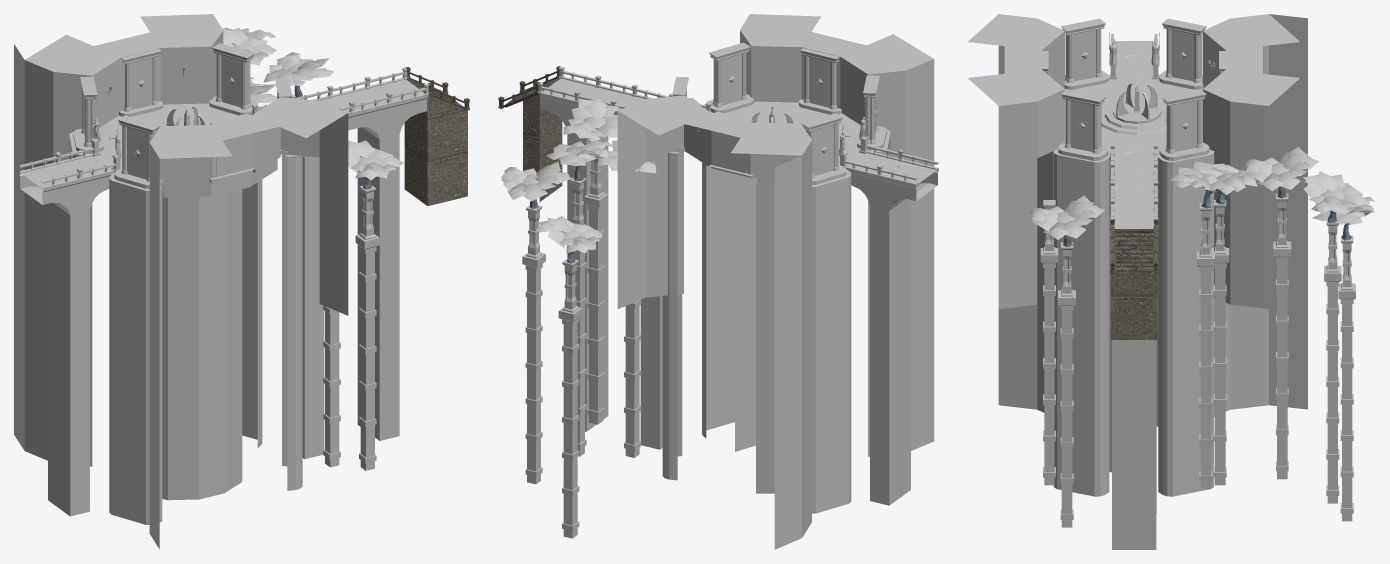
File: Area_003.FBX
The picture shows the model from 3 angles, left to right: view 1: azimuth 30°, elevation 25°; view 2: azimuth 150°, elevation 25°; view 3: azimuth 270°, elevation 25°; orthographic projection. The views are drawn at different scales.
Parts seen in each view (by area): view 1: Area_003; view 2: Area_003; view 3: Area_003.
Part boxes in pixels (x1=…): Area_003: x1=14, y1=14, x2=469, y2=549; Area_003: x1=498, y1=14, x2=938, y2=549; Area_003: x1=968, y1=14, x2=1374, y2=549.
Size of the model in its own units: 5677 by 5191 by 4701.
